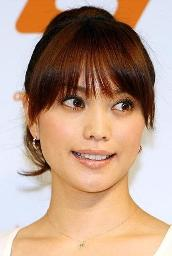face: (39, 85, 144, 191)
